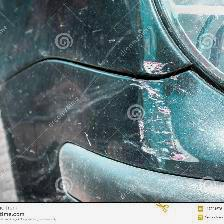bumper_scratch: (107, 22, 206, 179)
